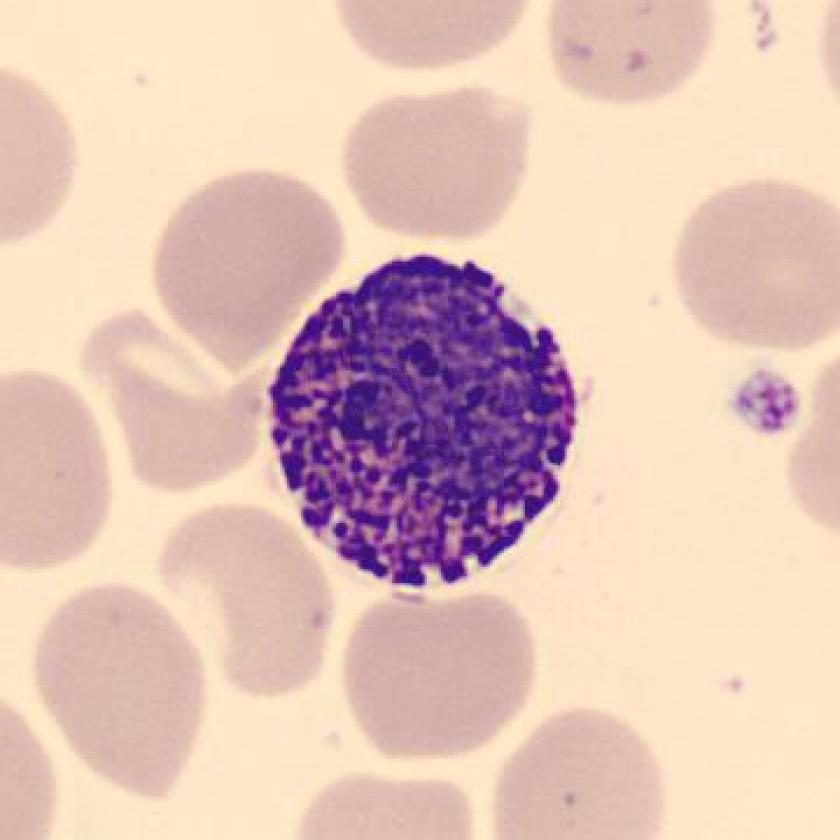basophil: (265, 249, 598, 603)
